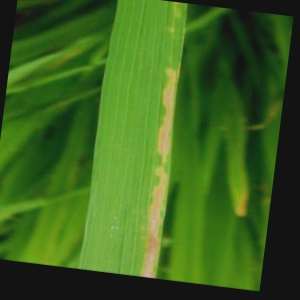Leaf_Blast: (93, 0, 179, 275)
